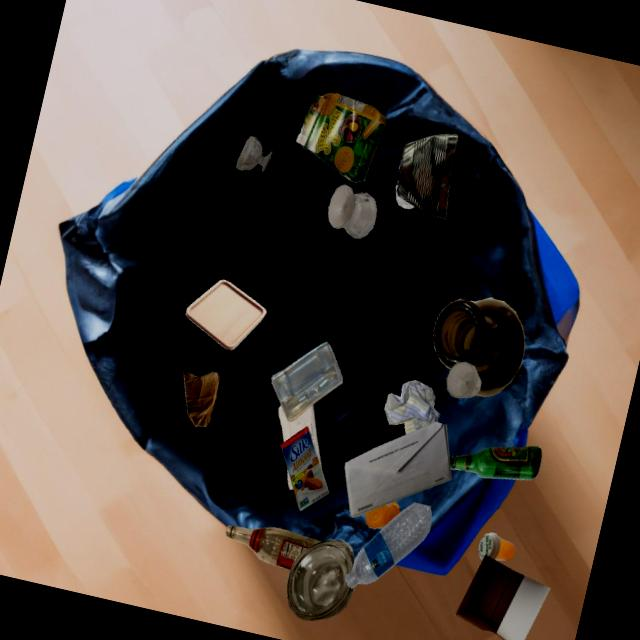cardboard: (454, 554, 550, 640), (295, 92, 386, 182), (280, 426, 329, 511), (183, 371, 219, 427)
combustible waste: (185, 279, 266, 350)
glass: (433, 297, 524, 396), (286, 539, 354, 620), (225, 525, 321, 570), (449, 446, 541, 480), (327, 184, 376, 238), (236, 136, 272, 172), (446, 361, 481, 398)
metal: (397, 133, 458, 221)
paper: (344, 421, 451, 517), (384, 380, 439, 434), (278, 404, 321, 470)
plastic: (345, 502, 431, 588), (271, 341, 342, 422), (478, 532, 515, 560), (365, 502, 399, 528), (395, 180, 414, 209)
